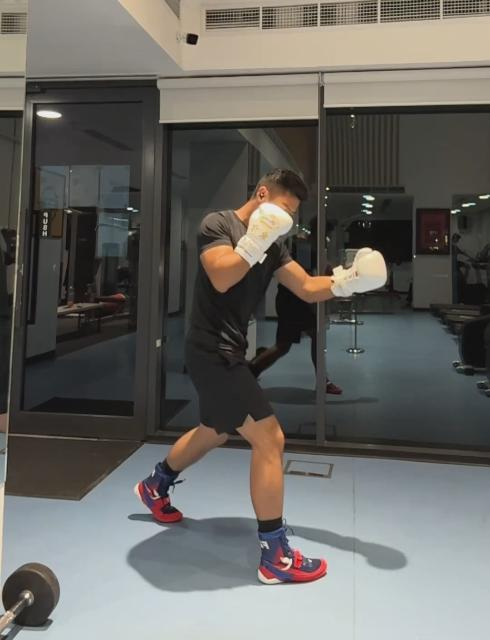punch: (134, 166, 390, 588)
